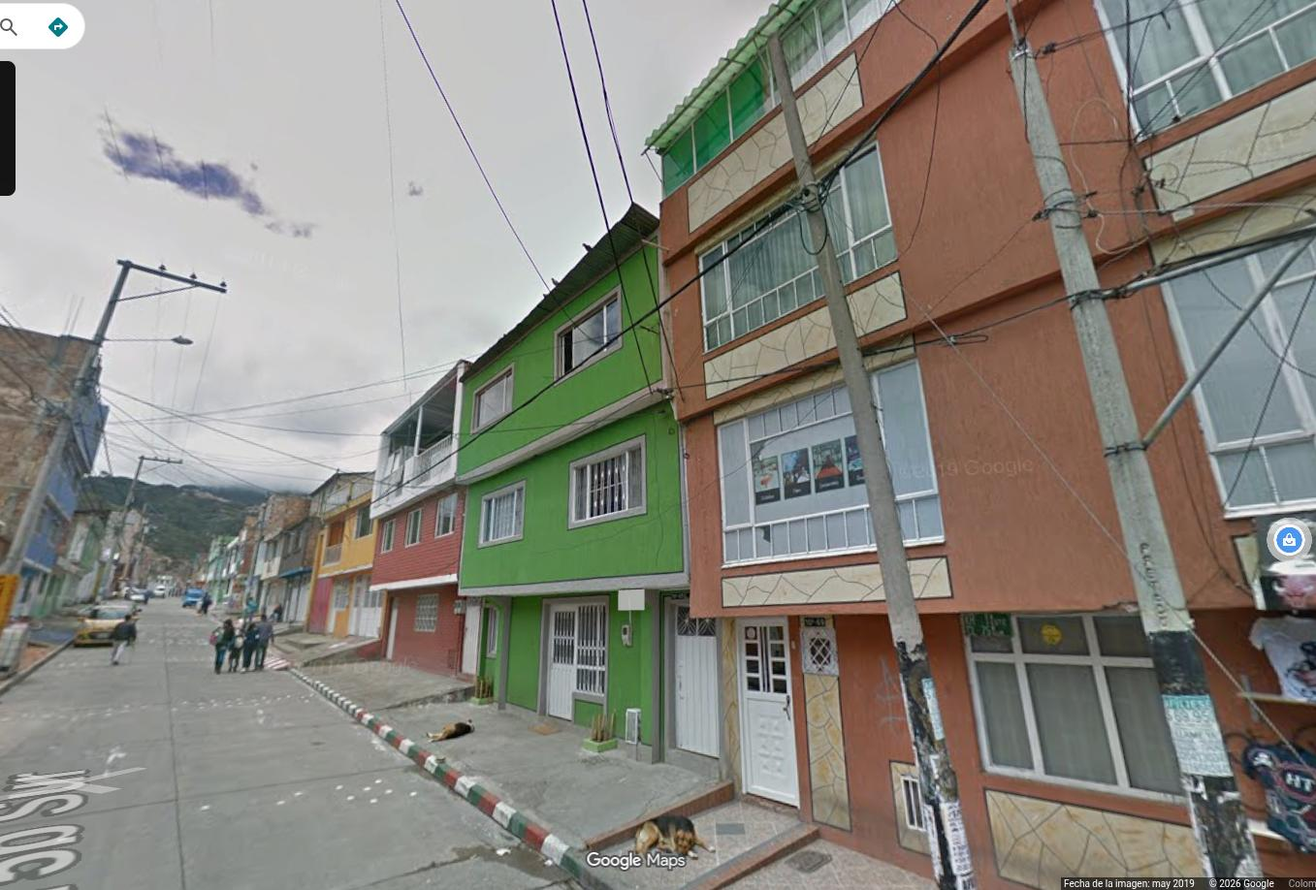casa: (783, 0, 1315, 889), (647, 58, 930, 871), (457, 204, 687, 758), (352, 361, 480, 674)
poste: (1007, 0, 1259, 878), (782, 94, 973, 889), (0, 260, 227, 573), (101, 456, 180, 593)
